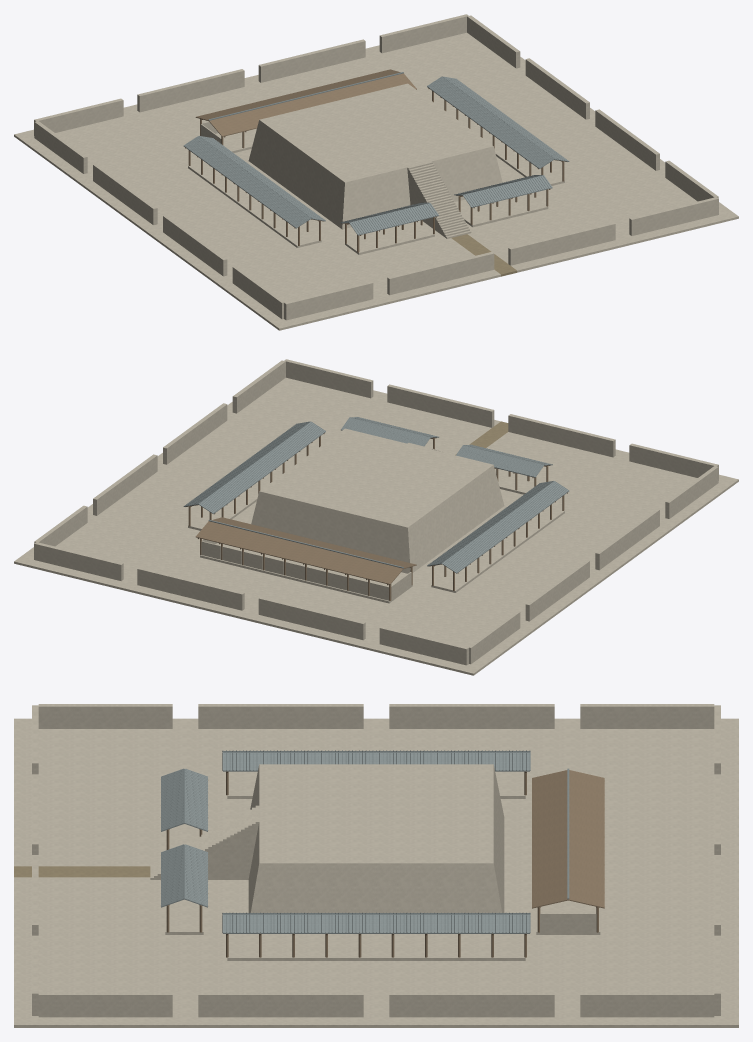
Rendered from lingtai-A-quality-LOD1.gltf.
The picture shows the model from 3 angles, top to bottom: view 1: azimuth 30°, elevation 25°; view 2: azimuth 150°, elevation 25°; view 3: azimuth 270°, elevation 25°; orthographic projection. The views are drawn at different scales.
Parts seen in each view (by area): view 1: ground_cell.001, central_square_platform_C, ground_cell.005, ground_cell.004, ground_cell, north_v1_roof_support, side_hall_deck.001, side_hall_deck.003, C_access_stair, side_hall_floor, perimeter_wall_C.002, perimeter_wall_C.005 (+24 smaller); view 2: ground_cell.001, central_square_platform_C, ground_cell.005, ground_cell, ground_cell.004, north_v1_roof_support.001, side_hall_deck.001, side_hall_deck.003, side_hall_floor, perimeter_wall_C.001, perimeter_wall_C.006, perimeter_wall_C.005 (+22 smaller); view 3: ground_cell.005, ground_cell.001, central_square_platform_C, ground_cell, ground_cell.004, side_hall_deck.002, side_hall_floor.001, north_v1_roof_support.001, north_v1_roof_support, perimeter_wall_C.013, perimeter_wall_C.014, perimeter_wall_C.009 (+26 smaller).
Part boxes in pixels (bbox=[...]): ground_cell.001: bbox=[14, 87, 446, 293]; central_square_platform_C: bbox=[248, 83, 502, 229]; ground_cell.005: bbox=[252, 32, 672, 232]; ground_cell.004: bbox=[467, 184, 738, 272]; ground_cell: bbox=[229, 238, 500, 330]; north_v1_roof_support: bbox=[209, 73, 416, 136]; side_hall_deck.001: bbox=[183, 136, 310, 228]; side_hall_deck.003: bbox=[427, 77, 554, 168]; C_access_stair: bbox=[407, 161, 471, 238]; side_hall_floor: bbox=[188, 162, 321, 247]; perimeter_wall_C.002: bbox=[508, 222, 615, 265]; perimeter_wall_C.005: bbox=[137, 69, 244, 112]; ground_cell.001: bbox=[252, 469, 688, 675]; central_square_platform_C: bbox=[251, 428, 504, 573]; ground_cell.005: bbox=[14, 404, 340, 617]; ground_cell: bbox=[486, 432, 738, 517]; ground_cell.004: bbox=[229, 377, 500, 455]; north_v1_roof_support.001: bbox=[195, 521, 403, 584]; side_hall_deck.001: bbox=[442, 481, 569, 573]; side_hall_deck.003: bbox=[198, 422, 325, 513]; side_hall_floor: bbox=[431, 507, 564, 592]; perimeter_wall_C.001: bbox=[508, 414, 615, 457]; perimeter_wall_C.006: bbox=[137, 567, 244, 610]; perimeter_wall_C.005: bbox=[258, 597, 365, 640]; ground_cell.005: bbox=[150, 877, 738, 1027]; ground_cell.001: bbox=[150, 718, 738, 866]; central_square_platform_C: bbox=[248, 764, 504, 912]; ground_cell: bbox=[14, 718, 150, 866]; ground_cell.004: bbox=[14, 877, 150, 1027]; side_hall_deck.002: bbox=[223, 914, 529, 933]; side_hall_floor.001: bbox=[227, 942, 525, 960]; north_v1_roof_support.001: bbox=[568, 770, 604, 908]; north_v1_roof_support: bbox=[532, 770, 568, 908]; perimeter_wall_C.013: bbox=[198, 992, 363, 1017]; perimeter_wall_C.014: bbox=[389, 992, 554, 1017]; perimeter_wall_C.009: bbox=[198, 704, 363, 728].
Size of the model in its own units: 68 by 6.3 by 68.
4 materials, 4 textured.
